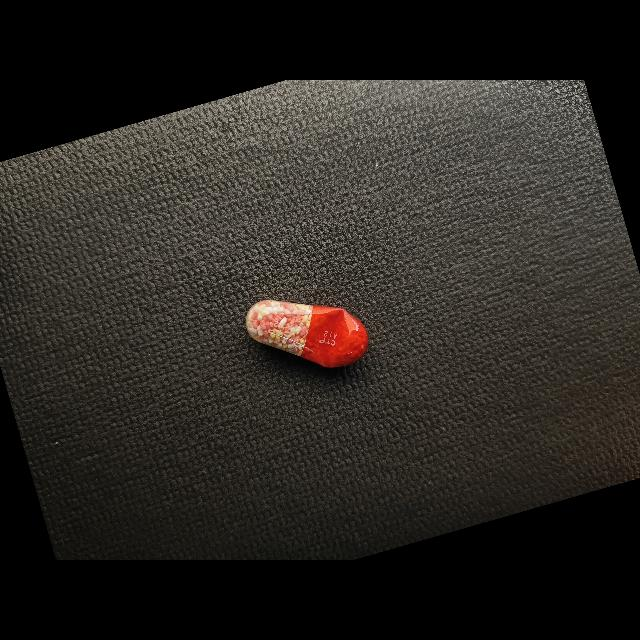Defective Capsule: (246, 300, 368, 368)
